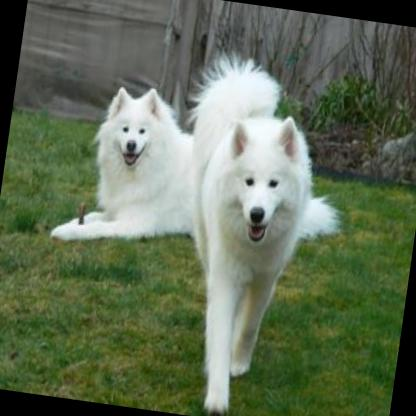Samoyed: (144, 36, 328, 416), (49, 74, 351, 276)
